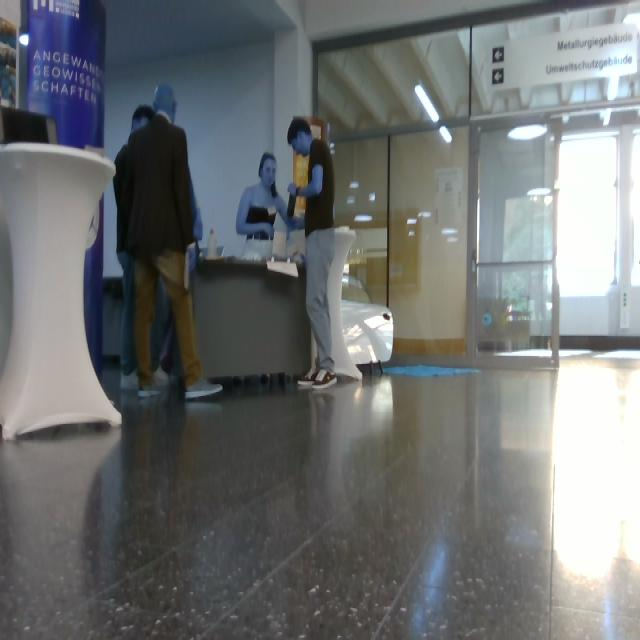desk: (195, 258, 311, 376), (104, 278, 122, 364)
door: (319, 1, 640, 364)
light bulb: (415, 85, 439, 122), (440, 126, 452, 144), (19, 28, 29, 46)
person: (130, 85, 220, 397), (288, 118, 336, 389), (114, 106, 155, 390), (237, 153, 287, 258), (152, 285, 176, 387)
pillar: (1, 200, 13, 376), (1, 1, 21, 106)
table: (1, 144, 121, 438), (328, 229, 361, 380)
tiled floor: (1, 360, 640, 640)
